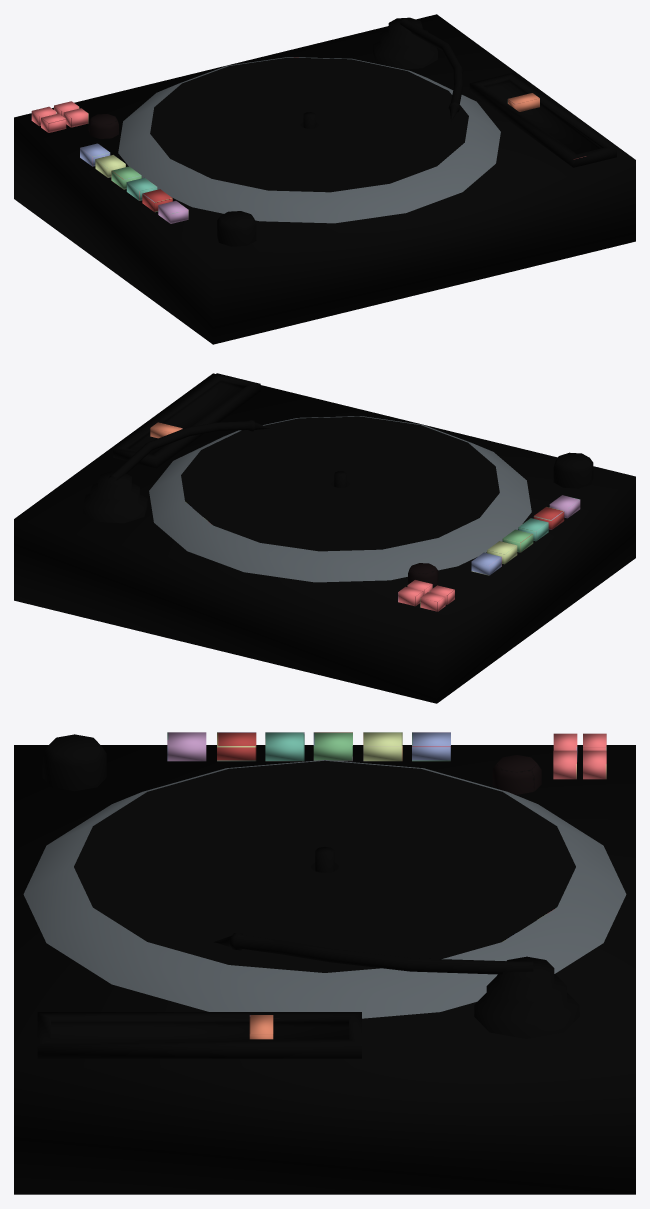
The model's file is turntable.glb.
3 renders of one model, top to bottom at view 1: azimuth 30°, elevation 25°; view 2: azimuth 150°, elevation 25°; view 3: azimuth 270°, elevation 25°, orthographic. The views are drawn at different scales.
Visible parts, largest first — view 1: Turntable; view 2: Turntable; view 3: Turntable.
Boxes of the visible parts, left/top/right/bottom form: Turntable: left=14, top=14, right=635, bottom=344; Turntable: left=14, top=373, right=635, bottom=703; Turntable: left=14, top=732, right=635, bottom=1194.
Size of the model in its own units: 0.6239 by 0.1699 by 0.5088.
1 material, 1 textured.
